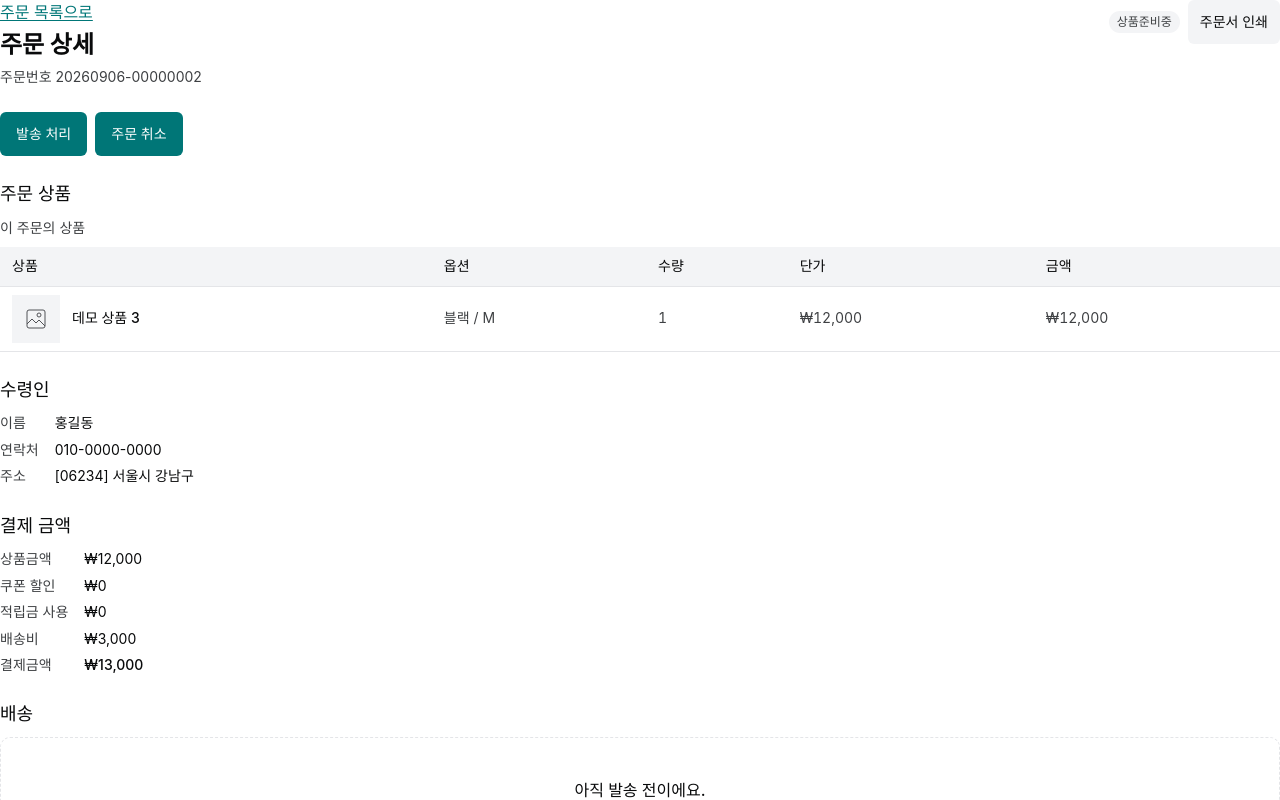
Test case: 발송 처리 (F3 · F10) › lets the seller choose a carrier
Click the button "발송 처리" at [44, 134], box left=0, top=112, right=87, bottom=156
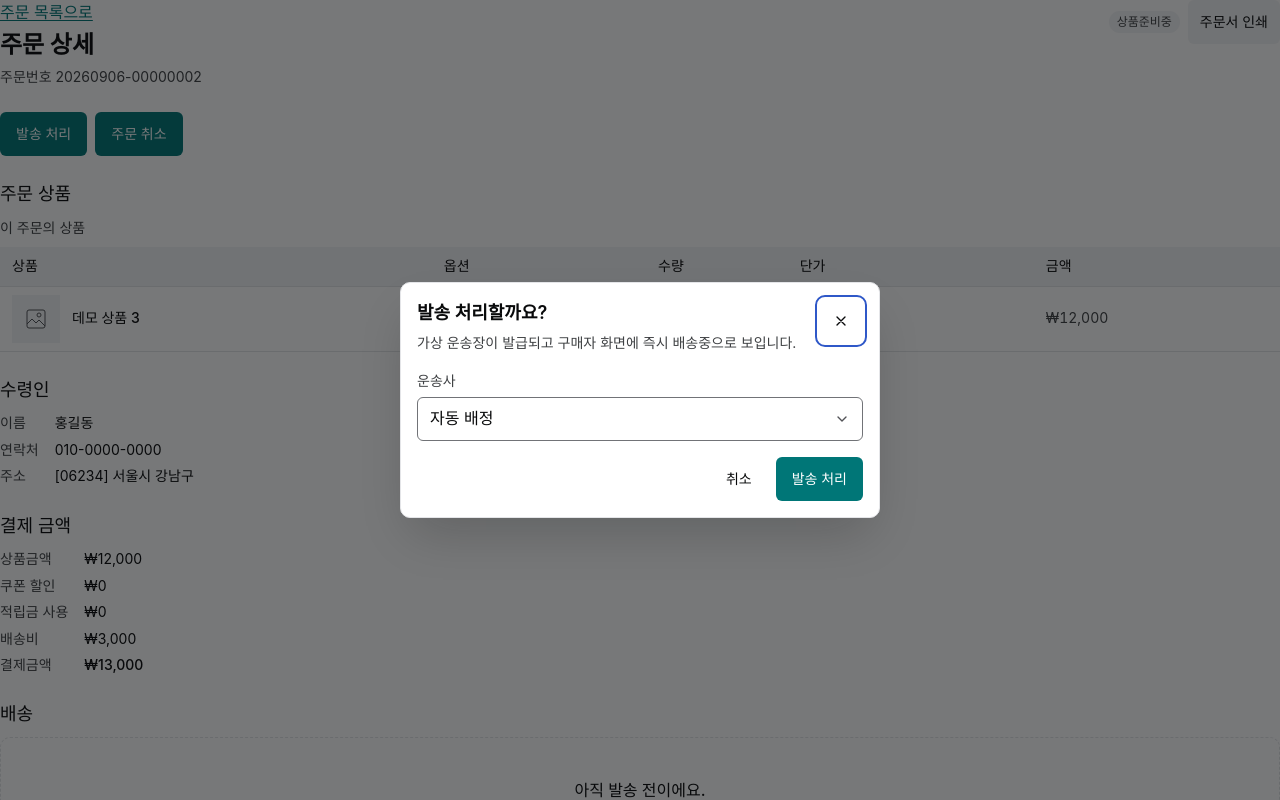
Click the dropdown named "운송사" at [462, 418], box left=417, top=397, right=863, bottom=441
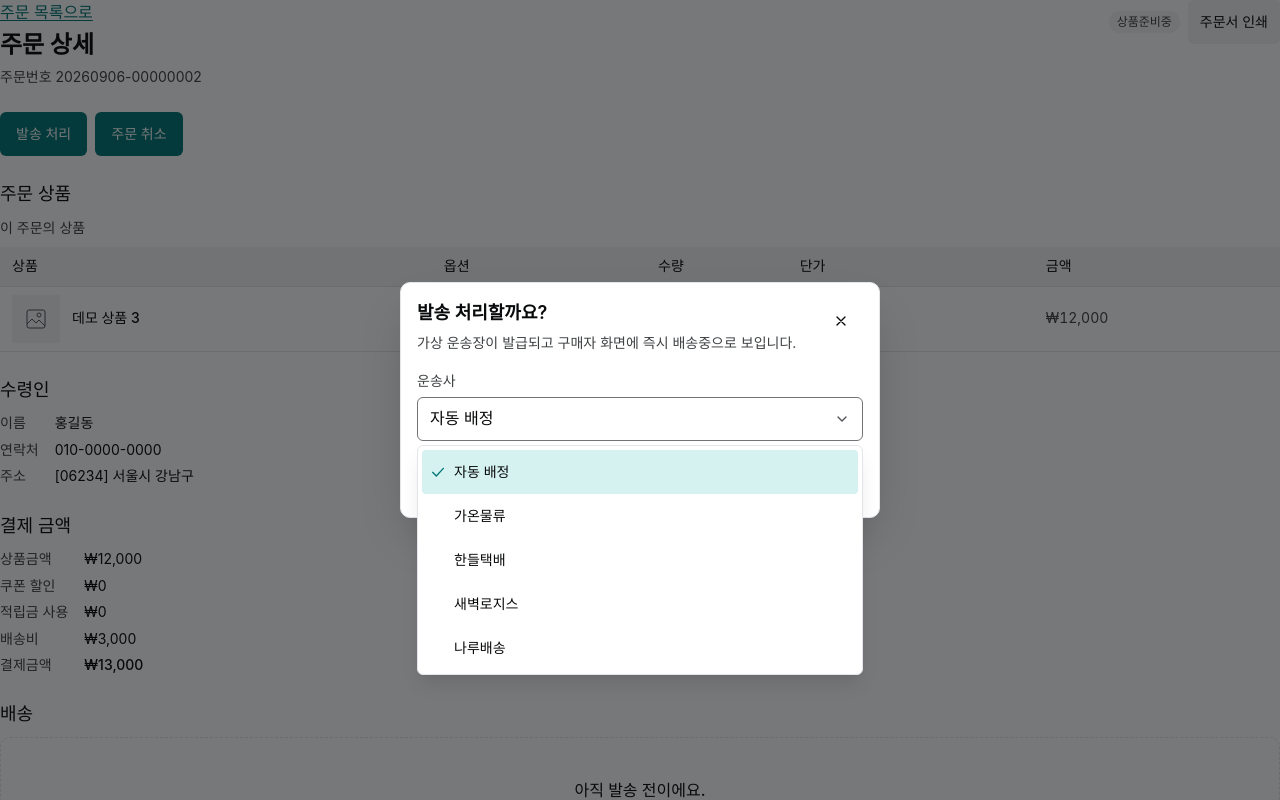
Click the option "한들택배" at [480, 559], box left=454, top=551, right=506, bottom=568
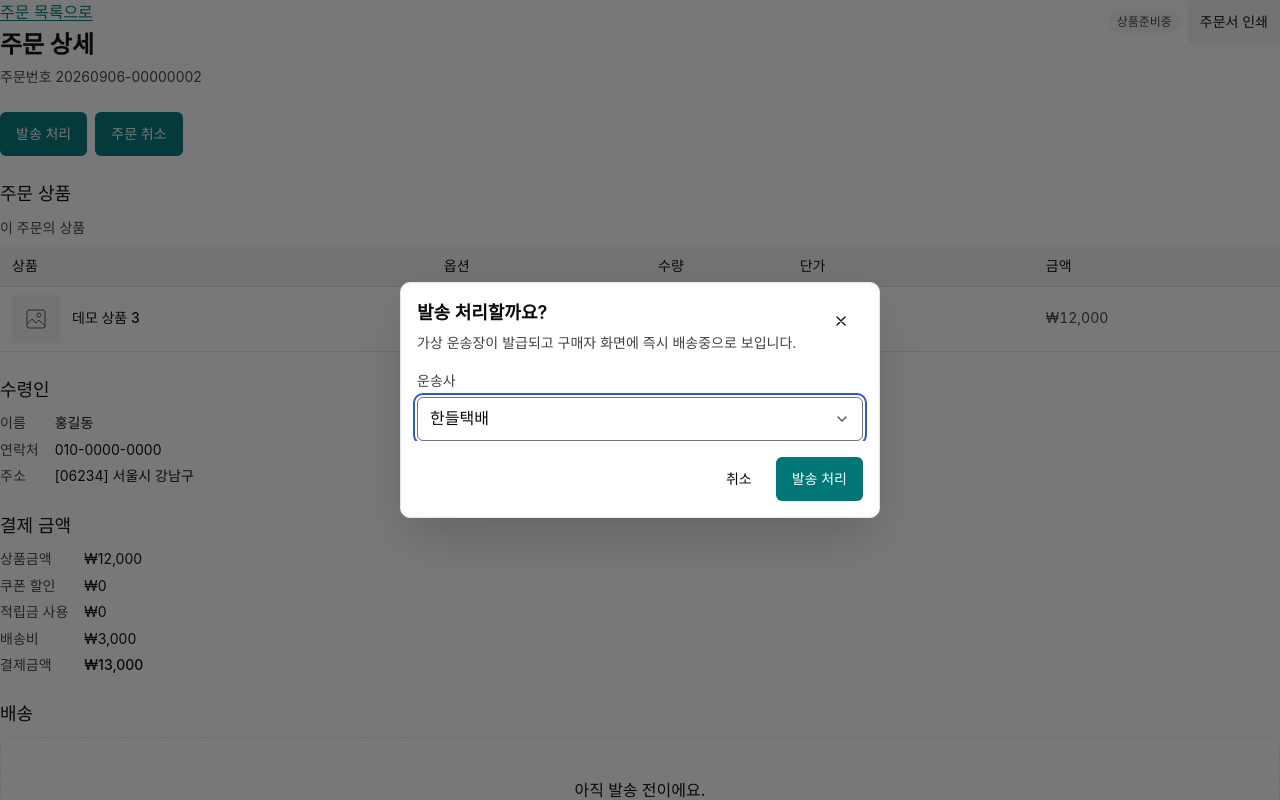
Click the button "발송 처리" at [819, 479], box left=776, top=457, right=863, bottom=501
(page scrolled)
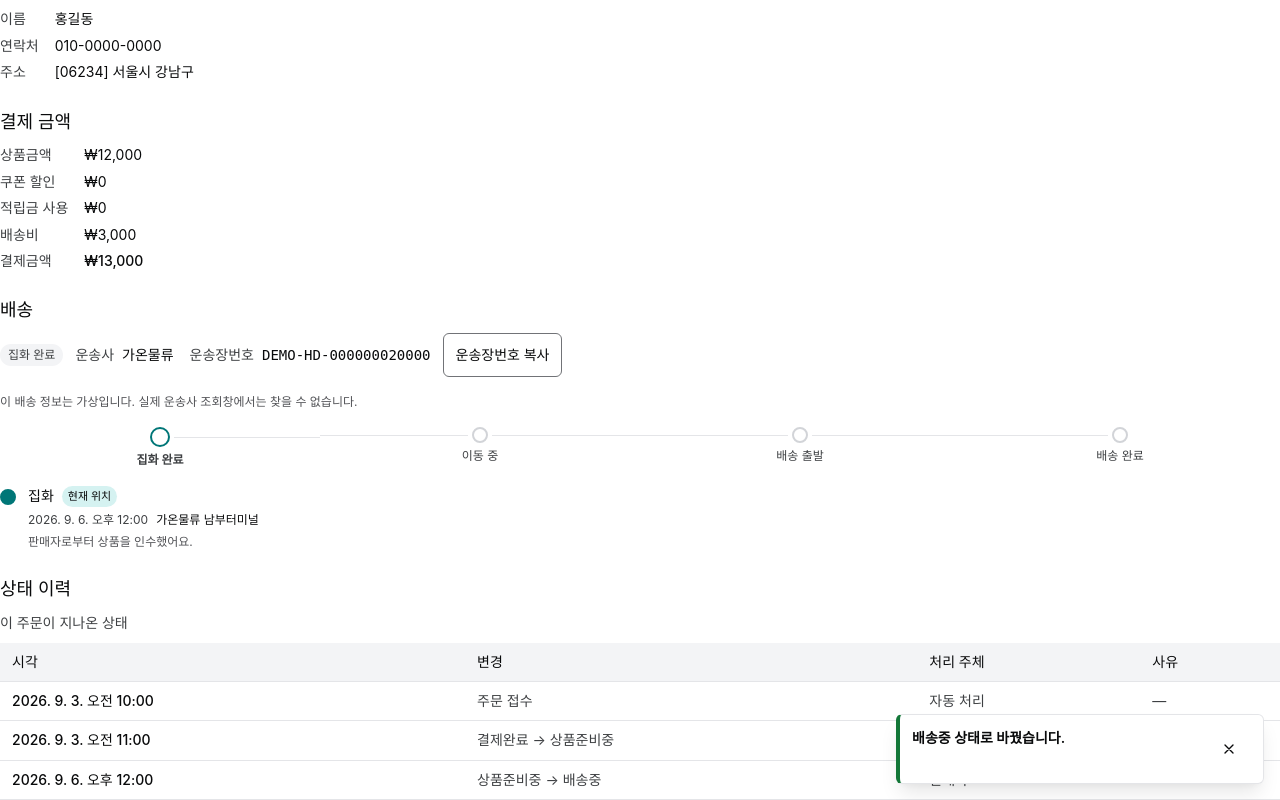
Check: the text "이 배송 정보는 가상입니다. 실제 운송사 조회창에서는 찾을 수 없습니다." is shown, box left=0, top=394, right=358, bottom=409
